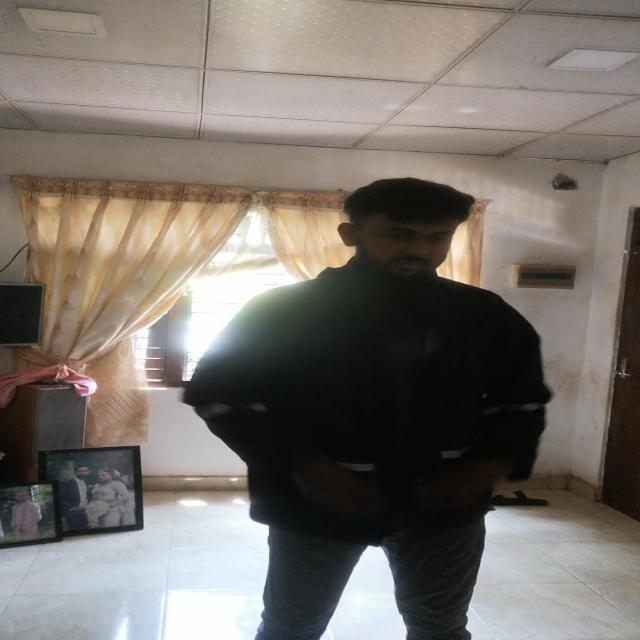Jacket_Wearer: (163, 259, 553, 550)
Person: (191, 177, 555, 640)
